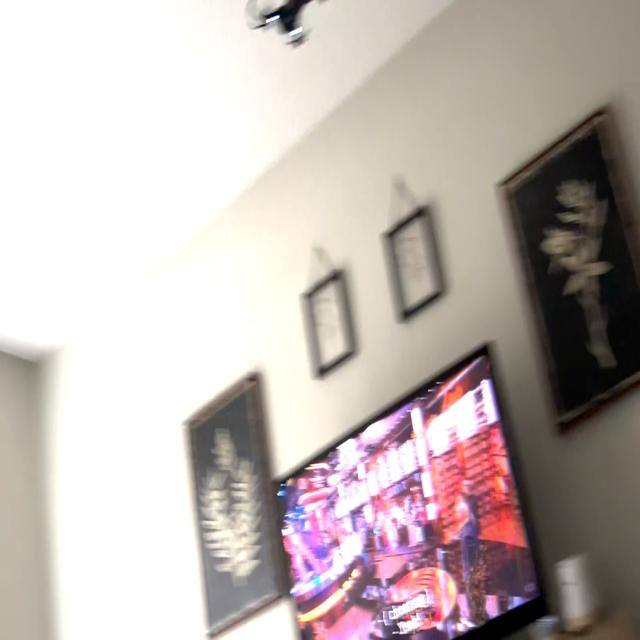drone: (240, 0, 329, 57)
